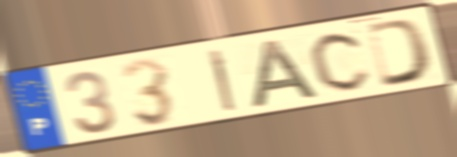3: (120, 56, 179, 128), (63, 69, 118, 135)
A: (249, 37, 324, 111)
C: (307, 29, 375, 93)
D: (363, 16, 435, 90)
I: (206, 46, 238, 114)
